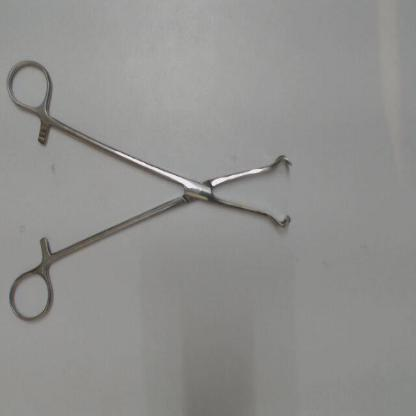8 Babcock Tissue Forceps: (3, 50, 300, 332)
